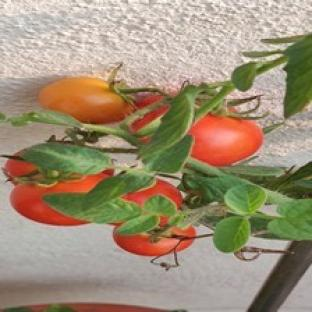Tomato: (10, 173, 107, 225), (39, 77, 133, 123), (190, 115, 263, 165), (113, 226, 196, 256), (123, 179, 182, 208), (131, 105, 168, 132), (3, 159, 36, 183)
